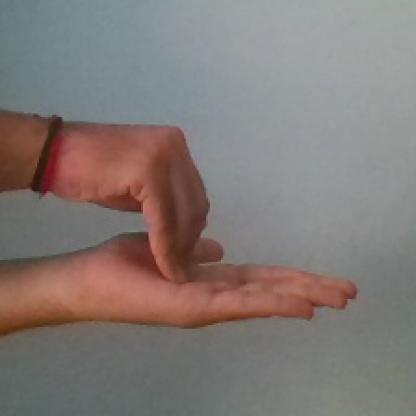Z: (69, 110, 364, 342)
